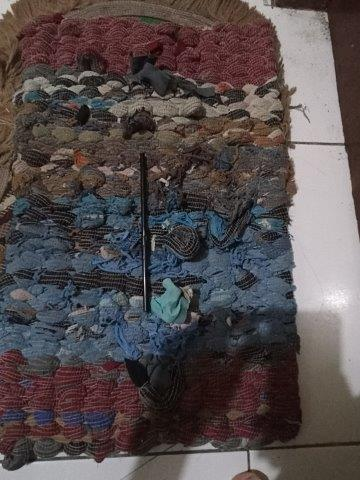sedotan: (139, 153, 151, 313)
